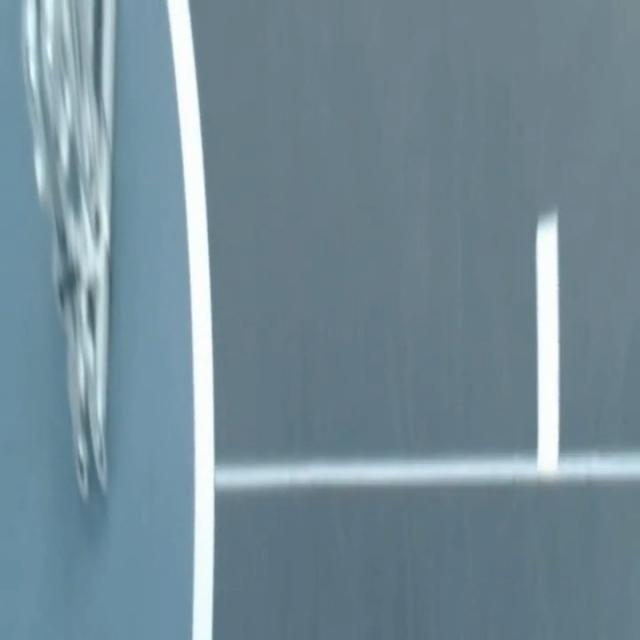center: (536, 212, 559, 474)
left: (167, 0, 214, 639)
